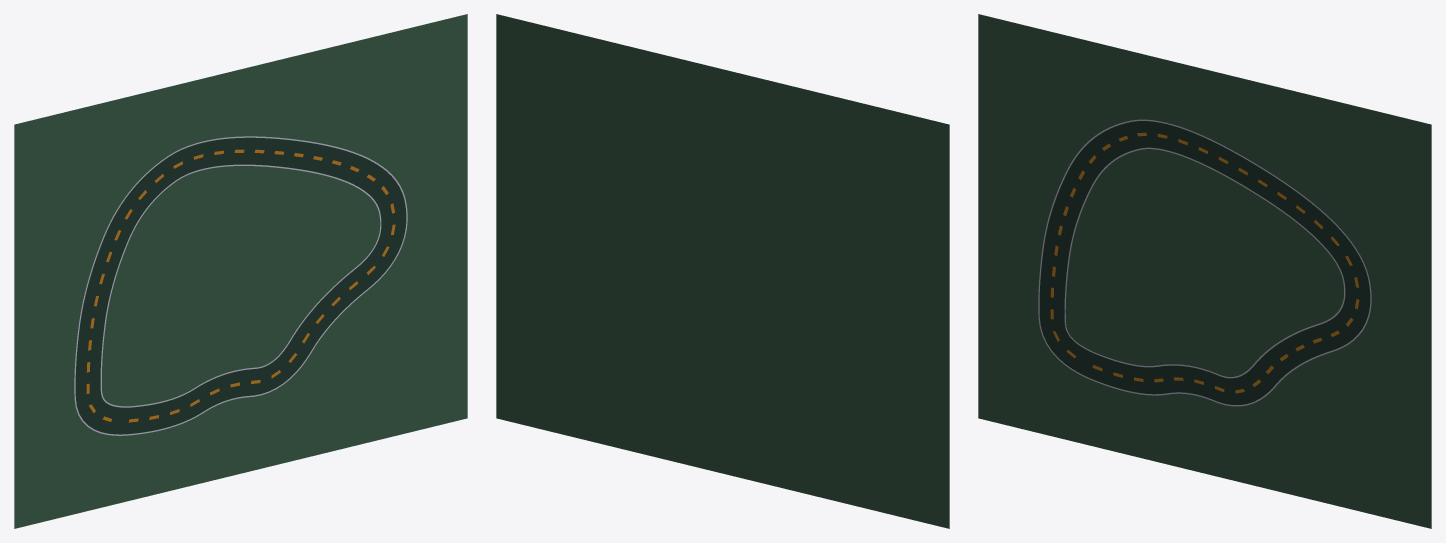
The model's file is track.obj.
The picture shows the model from 3 angles, left to right: view 1: azimuth 30°, elevation 25°; view 2: azimuth 150°, elevation 25°; view 3: azimuth 330°, elevation 25°; orthographic projection.
Size of the model in its own units: 14.28 by 12.17 by 0.0025.
